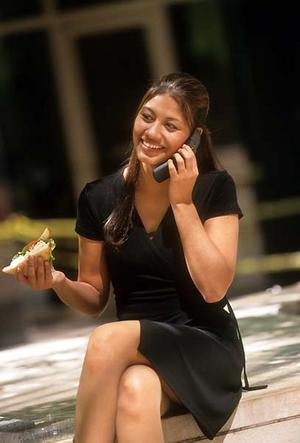person: (8, 71, 247, 442)
